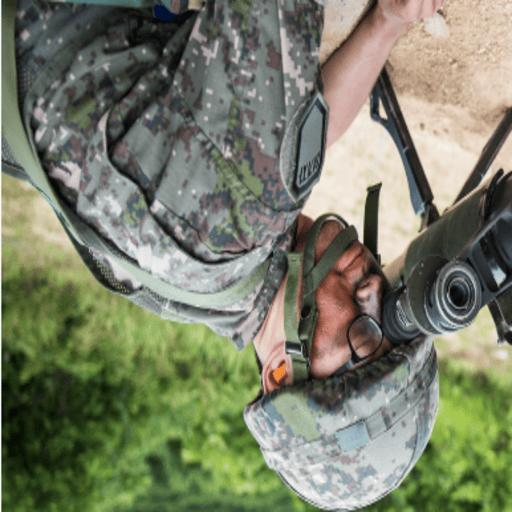korea army: (15, 5, 512, 508)
